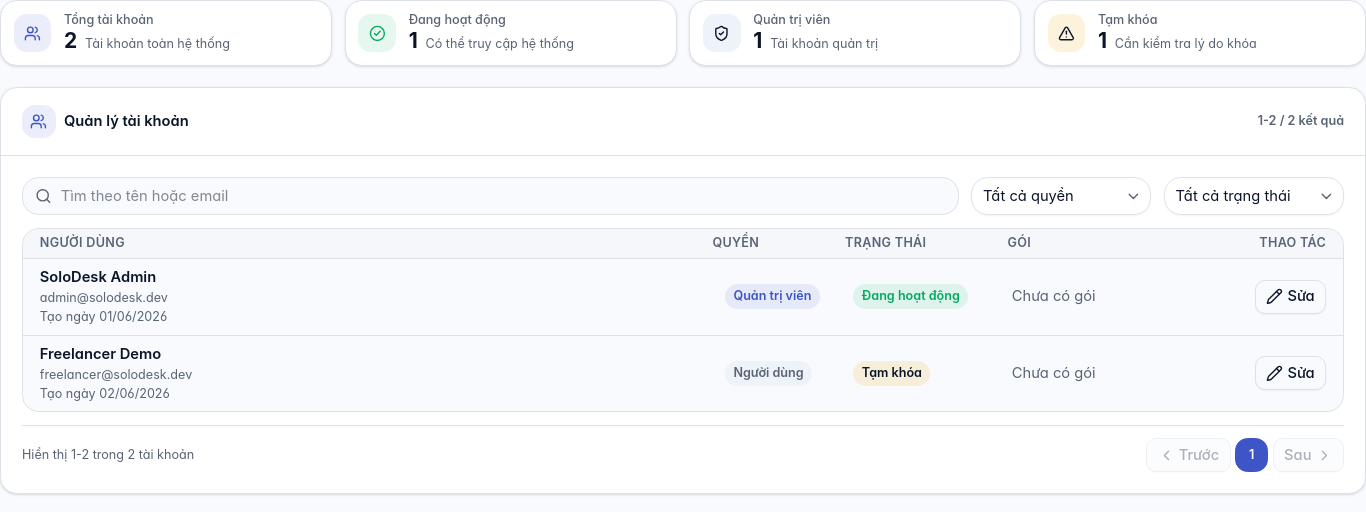
Test: <AdminUsersPage /> — ô chọn hiện nhãn tiếng Việt › chọn lọc 'Người dùng' xong thì ô chọn ghi 'Người dùng', không ghi 'freelancer'
Click the dropdown named "Lọc quyền": x=1061, y=196 [971,177,1151,215]
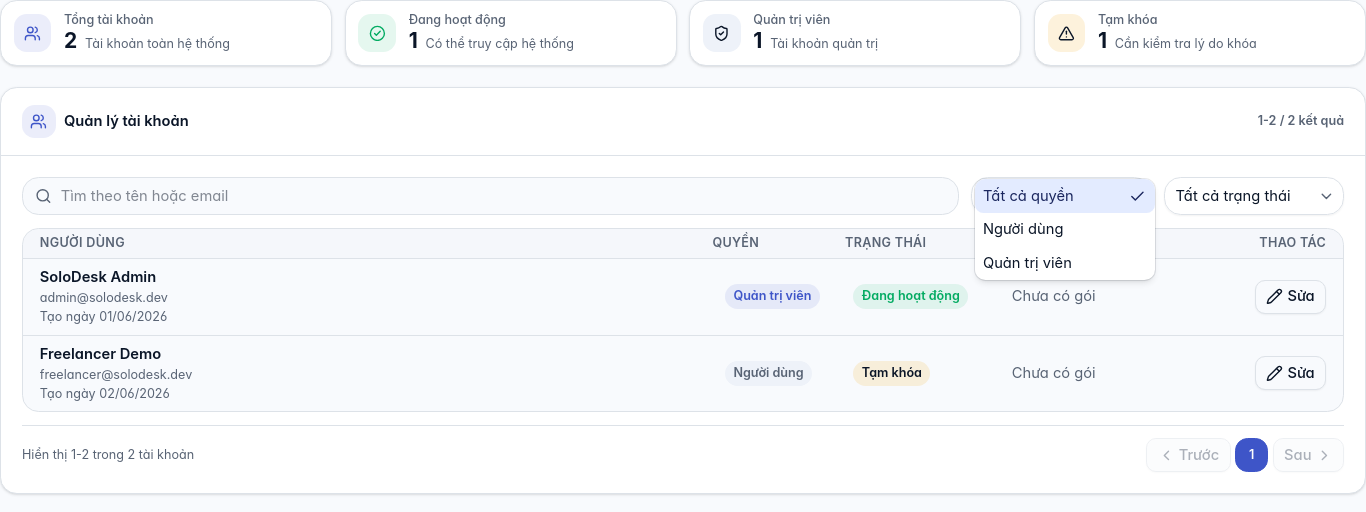
Click the option "Người dùng": x=1023, y=229 [983,220,1063,238]
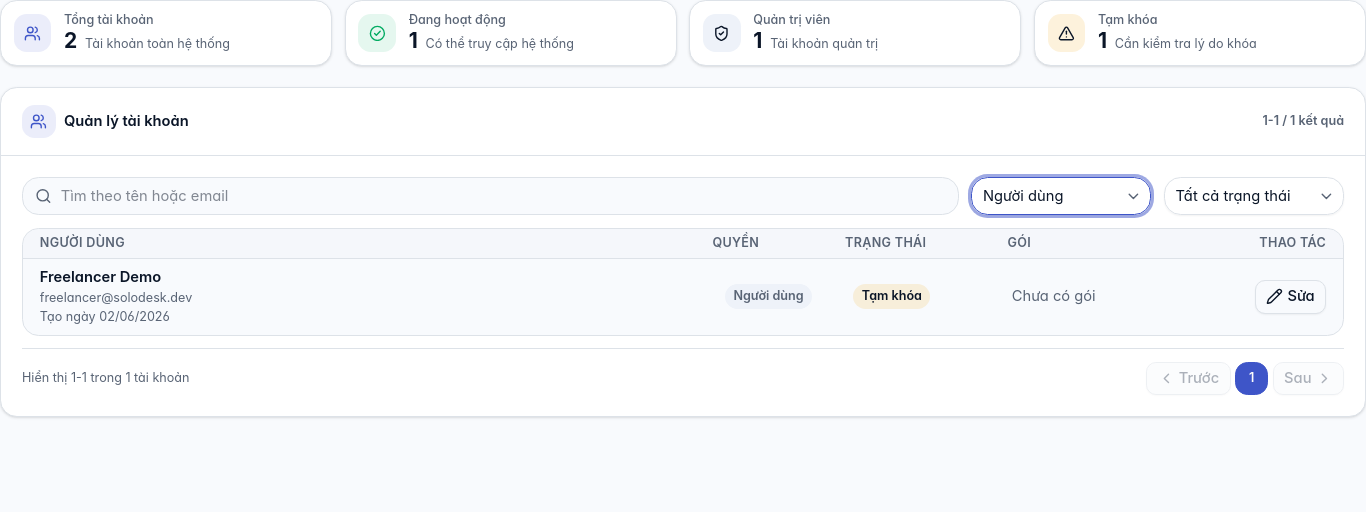
Expected: the dropdown named "Lọc quyền" does not show "freelancer", [971,177,1151,215]
Expected: the dropdown named "Lọc quyền" shows "Người dùng", [971,177,1151,215]
